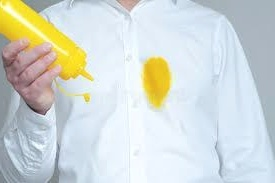mustard: (146, 56, 174, 112)
